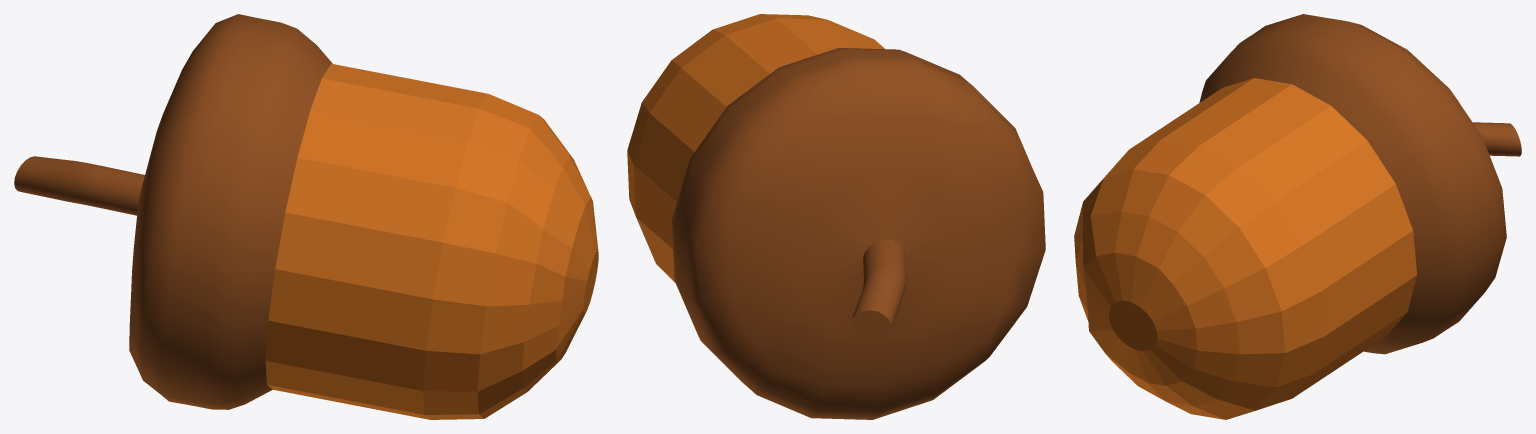
File: acorn.glb
3 renders of one model, left to right at view 1: azimuth 30°, elevation 25°; view 2: azimuth 150°, elevation 25°; view 3: azimuth 270°, elevation 25°, orthographic. The views are drawn at different scales.
Visible parts, largest first — view 1: Cylinder001; view 2: Cylinder001; view 3: Cylinder001.
Boxes of the visible parts, x1=… form: Cylinder001: x1=14, y1=14, x2=598, y2=419; Cylinder001: x1=627, y1=14, x2=1045, y2=419; Cylinder001: x1=1074, y1=14, x2=1521, y2=419.
Size of the model in its own units: 435132 by 353974 by 445298.
